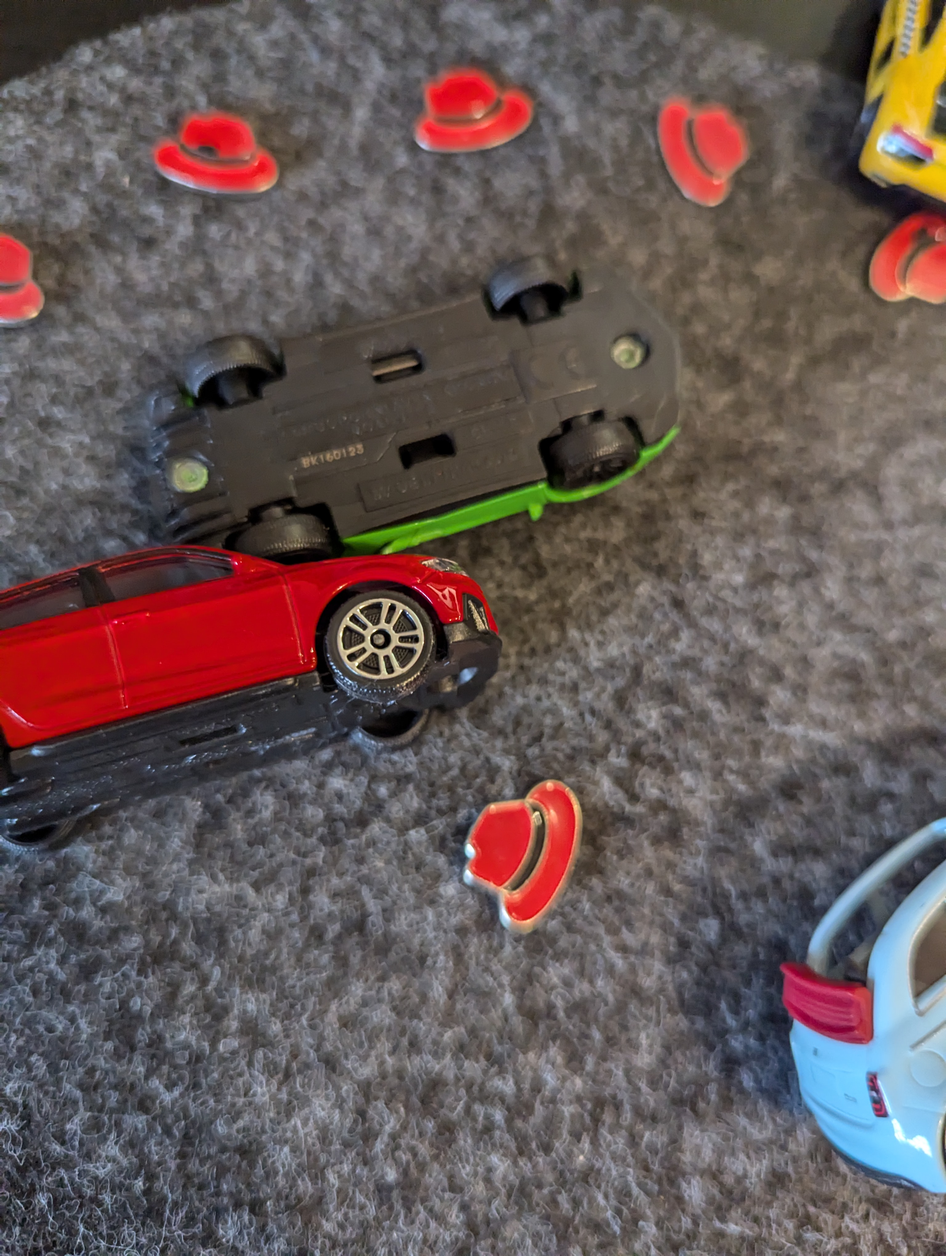Car: (102, 237, 741, 576), (0, 542, 581, 855), (764, 789, 946, 1216)
Red-Hat: (434, 754, 625, 966), (628, 64, 780, 228), (129, 77, 314, 206), (381, 51, 556, 158), (837, 179, 946, 327)
Scratch: (893, 215, 946, 255), (187, 131, 235, 162)
